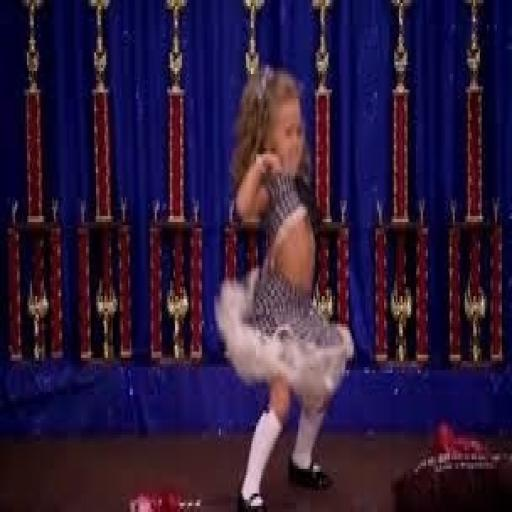dancing: (212, 65, 357, 509)
